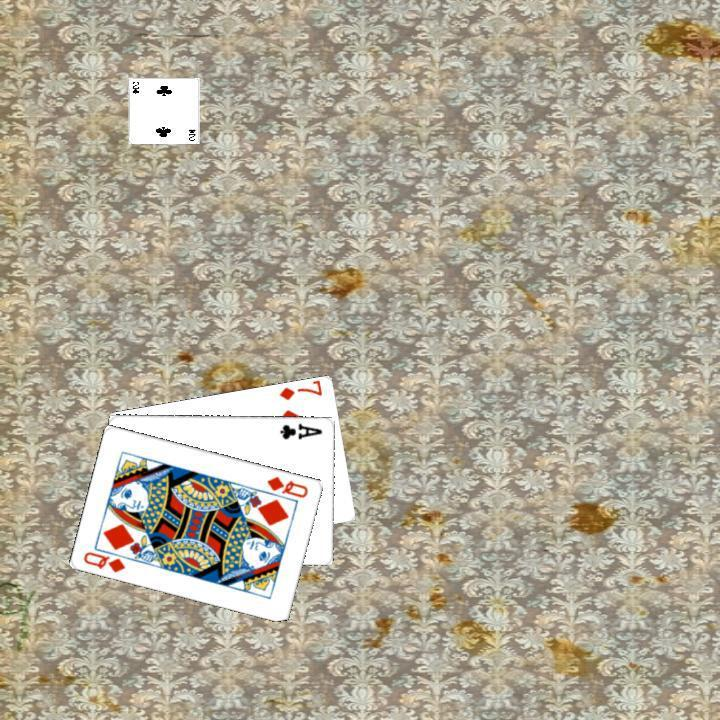7: (275, 377, 324, 402)
A: (276, 418, 324, 441)
Q: (263, 471, 310, 500), (79, 547, 128, 574)
